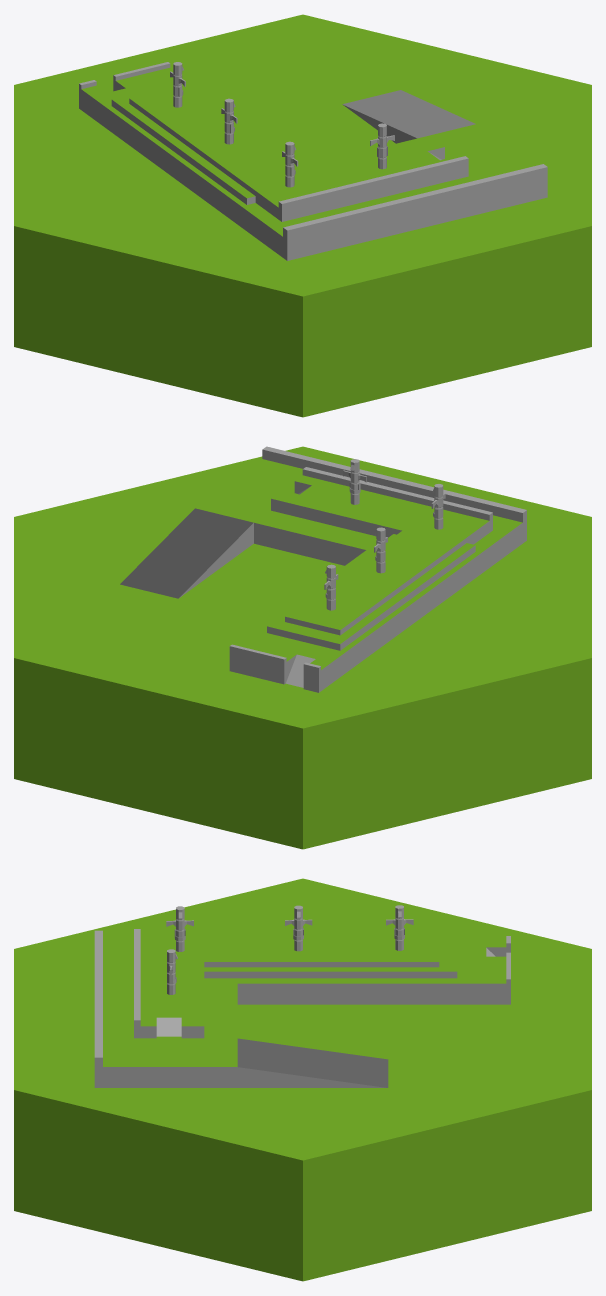
The model's file is Asentamiento_02.fbx.
3 views of the same model, one above another, from view 1: azimuth 30°, elevation 25°; view 2: azimuth 150°, elevation 25°; view 3: azimuth 270°, elevation 25° (orthographic).
Visible parts, largest first — view 1: Asentamiento_02; view 2: Asentamiento_02; view 3: Asentamiento_02.
Part boxes in pixels (x1=…): Asentamiento_02: x1=14, y1=14, x2=591, y2=417; Asentamiento_02: x1=14, y1=446, x2=591, y2=849; Asentamiento_02: x1=14, y1=878, x2=591, y2=1281.
Size of the model in its own units: 200 by 64.8 by 173.
